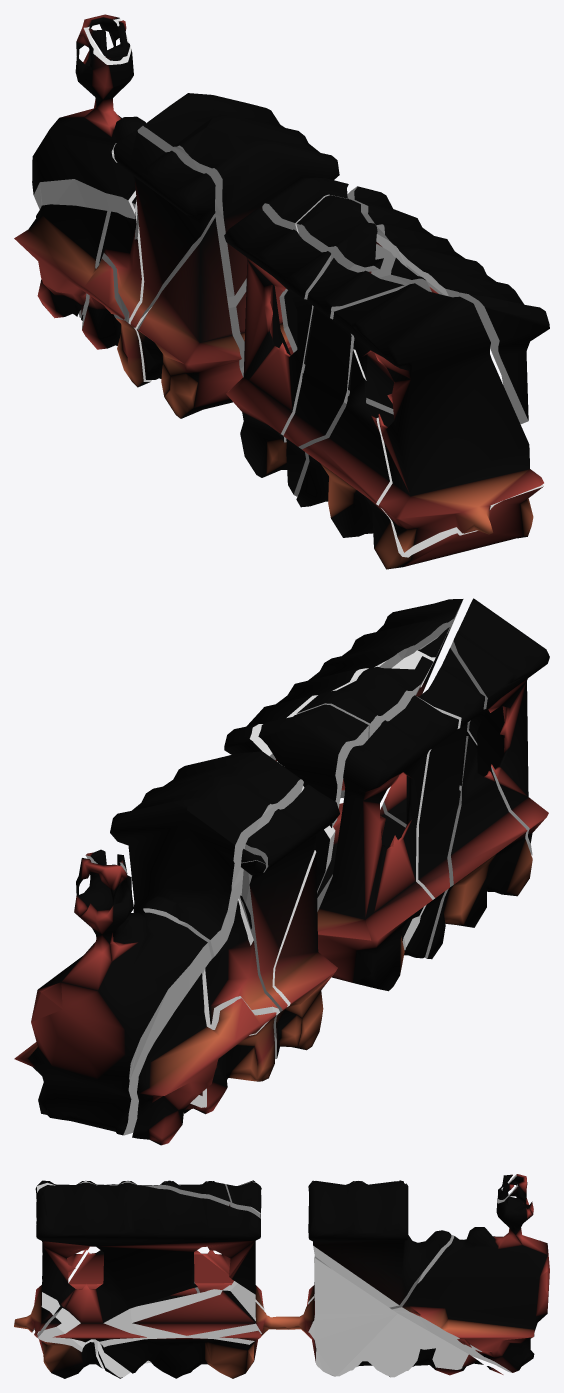
The model's file is Locomotive Trains.glb.
The picture shows the model from 3 angles, top to bottom: view 1: azimuth 30°, elevation 25°; view 2: azimuth 150°, elevation 25°; view 3: azimuth 270°, elevation 25°; orthographic projection. The views are drawn at different scales.
Visible parts, largest first — view 1: Root.009, Root.003, Root.020, Root, Root.001, Root.007, Root.002, Root.015, Root.010, Root.016, Root.004, Root.006 (+4 smaller); view 2: Root.007, Root.003, Root.020, Root.009, Root, Root.015, Root.016, Root.010, Root.002, Root.004, Root.001, Root.019 (+3 smaller); view 3: Root.002, Root.012, Root.007, Root.020, Root, Root.003, Root.009, Root.006, Root.019, Root.015.
Boxes of the visible parts, bbox=[...] form: Root.009: bbox=[333, 283, 543, 552]; Root.003: bbox=[224, 208, 331, 477]; Root.020: bbox=[132, 93, 339, 297]; Root: bbox=[296, 349, 543, 569]; Root.001: bbox=[137, 217, 242, 418]; Root.007: bbox=[32, 14, 145, 250]; Root.002: bbox=[347, 186, 549, 424]; Root.015: bbox=[283, 258, 404, 496]; Root.010: bbox=[113, 131, 215, 327]; Root.016: bbox=[14, 204, 124, 319]; Root.004: bbox=[79, 211, 151, 387]; Root.006: bbox=[296, 195, 383, 272]; Root.007: bbox=[14, 858, 211, 1135]; Root.003: bbox=[317, 695, 458, 991]; Root.020: bbox=[110, 751, 303, 958]; Root.009: bbox=[450, 598, 549, 855]; Root: bbox=[382, 736, 532, 959]; Root.015: bbox=[380, 648, 484, 958]; Root.016: bbox=[132, 973, 276, 1145]; Root.010: bbox=[241, 784, 339, 1011]; Root.002: bbox=[224, 599, 463, 798]; Root.004: bbox=[183, 898, 279, 1114]; Root.001: bbox=[272, 850, 337, 1058]; Root.019: bbox=[258, 704, 368, 827]; Root.002: bbox=[36, 1182, 260, 1342]; Root.012: bbox=[99, 1257, 483, 1378]; Root.007: bbox=[390, 1174, 549, 1372]; Root.020: bbox=[308, 1180, 451, 1307]; Root: bbox=[34, 1250, 104, 1378]; Root.003: bbox=[160, 1180, 264, 1311]; Root.009: bbox=[14, 1180, 117, 1335]; Root.006: bbox=[124, 1180, 230, 1205]; Root.019: bbox=[224, 1181, 261, 1218]; Root.015: bbox=[97, 1181, 197, 1378].
Size of the model in its own units: 1.84 by 3.1 by 8.4.
